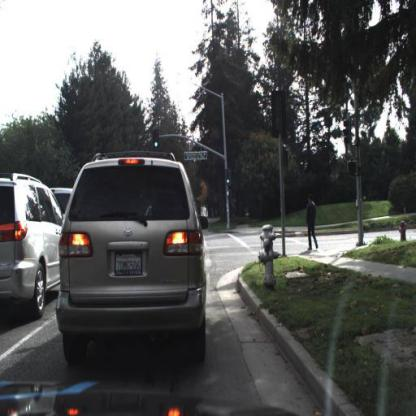car: (58, 151, 209, 362), (1, 171, 65, 313), (51, 185, 76, 217)
pedestrian: (306, 192, 321, 254)
trafficLight-Green: (153, 130, 161, 151), (224, 169, 232, 187)
